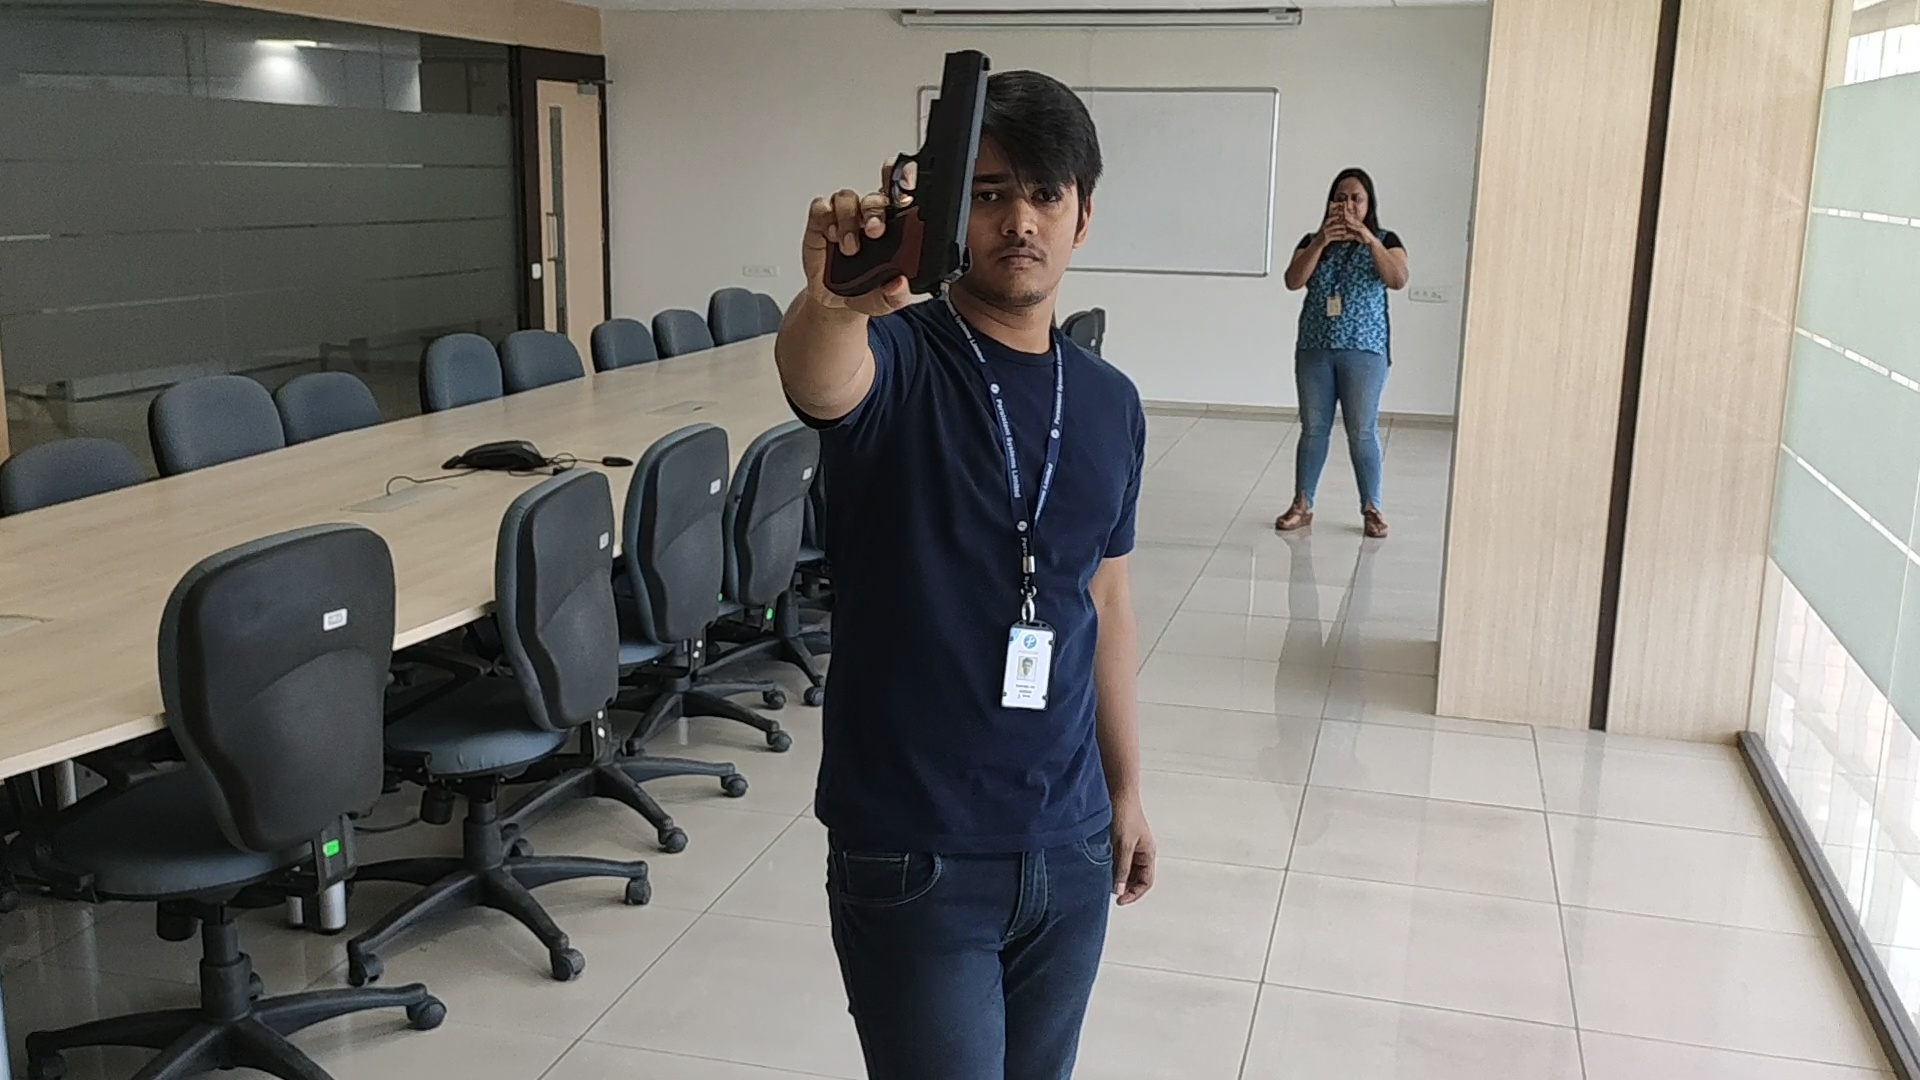gun: (829, 47, 982, 294)
